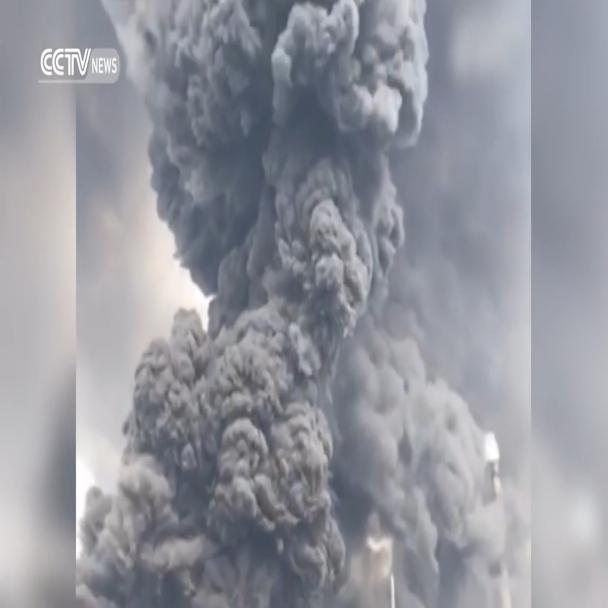smoke: (78, 4, 516, 607)
